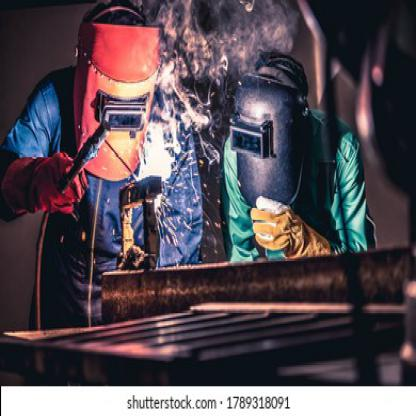glove: (5, 154, 90, 216), (250, 196, 332, 257)
